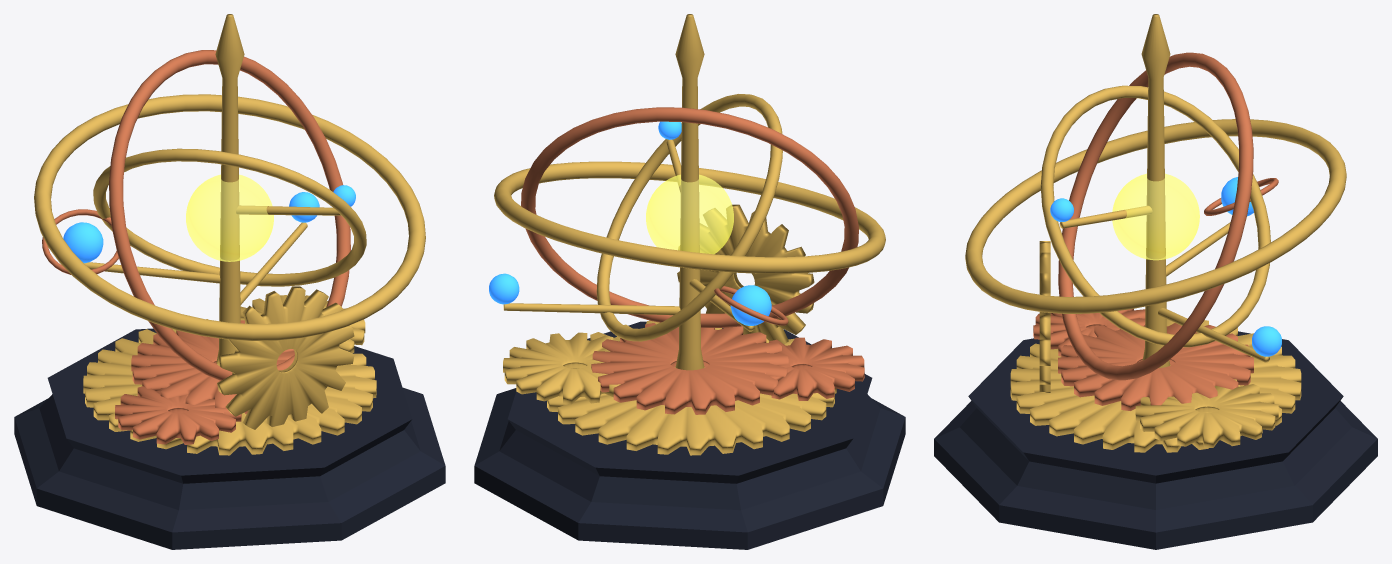
File: webtoon-celestial-chrono-orrery-clock-v16.glb
3 views of the same model, side by side, from view 1: azimuth 30°, elevation 25°; view 2: azimuth 150°, elevation 25°; view 3: azimuth 270°, elevation 25° (orthographic).
Parts seen in each view (by area): view 1: OrreryBrassClockwork.001, OrreryObsidianPlinth.001, OrreryCopperGimbals.001, OrrerySolarCore.001, OrreryOrbitingPlanets.001; view 2: OrreryBrassClockwork.001, OrreryObsidianPlinth.001, OrreryCopperGimbals.001, OrrerySolarCore.001, OrreryOrbitingPlanets.001; view 3: OrreryBrassClockwork.001, OrreryObsidianPlinth.001, OrreryCopperGimbals.001, OrrerySolarCore.001, OrreryOrbitingPlanets.001.
Part boxes in pixels (x1,y1,x2,y2): OrreryBrassClockwork.001: (34,14,425,455); OrreryObsidianPlinth.001: (14,328,445,549); OrreryCopperGimbals.001: (42,50,350,444); OrrerySolarCore.001: (186,174,273,261); OrreryOrbitingPlanets.001: (63,185,355,263); OrreryBrassClockwork.001: (494,14,885,455); OrreryObsidianPlinth.001: (474,321,905,549); OrreryCopperGimbals.001: (521,107,864,414); OrrerySolarCore.001: (646,174,733,254); OrreryOrbitingPlanets.001: (489,121,771,325); OrreryBrassClockwork.001: (965,14,1346,452); OrreryObsidianPlinth.001: (934,331,1377,549); OrreryCopperGimbals.001: (1033,52,1278,410); OrrerySolarCore.001: (1112,173,1199,260); OrreryOrbitingPlanets.001: (1050,177,1281,356).
Bounding box in the file's own units: 1.04 × 1.14 × 1.04.
